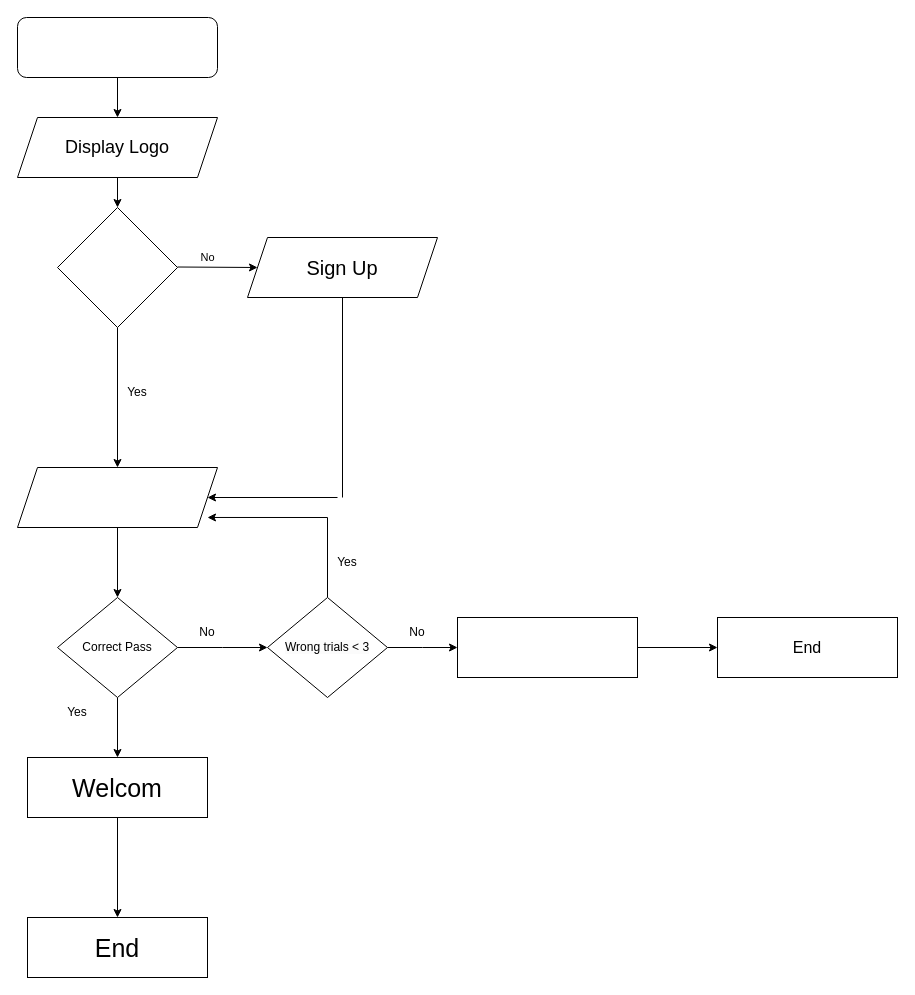
Image size: 915x995. Some labels were removed from this diagram. Here are the shapes that lost their labels. From the top down, the box of each, then its label:
(16, 16, 218, 78): Start
(56, 206, 178, 328): Already have an account ?
(16, 466, 218, 528): Login Page Enter User & Pass
(456, 616, 638, 678): Lock The User Account
